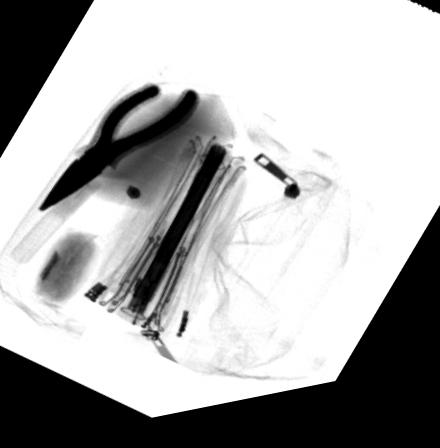Pliers: (34, 87, 200, 216)
